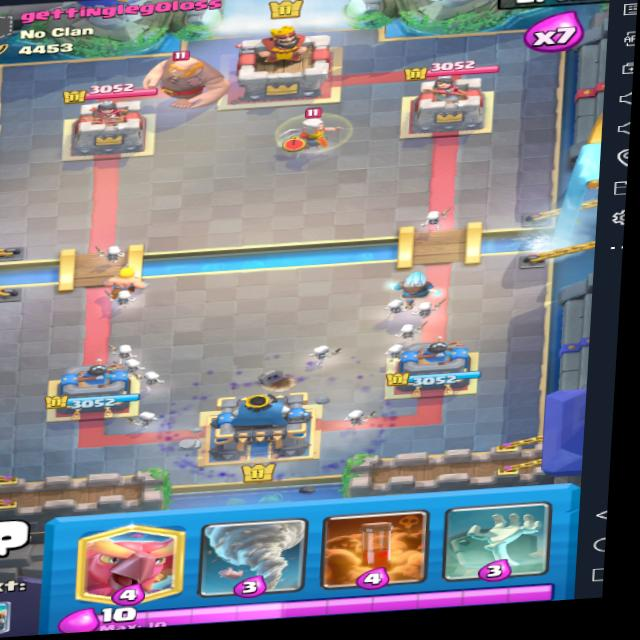Battlehealer: (266, 99, 360, 164)
Giant: (145, 48, 232, 115)
